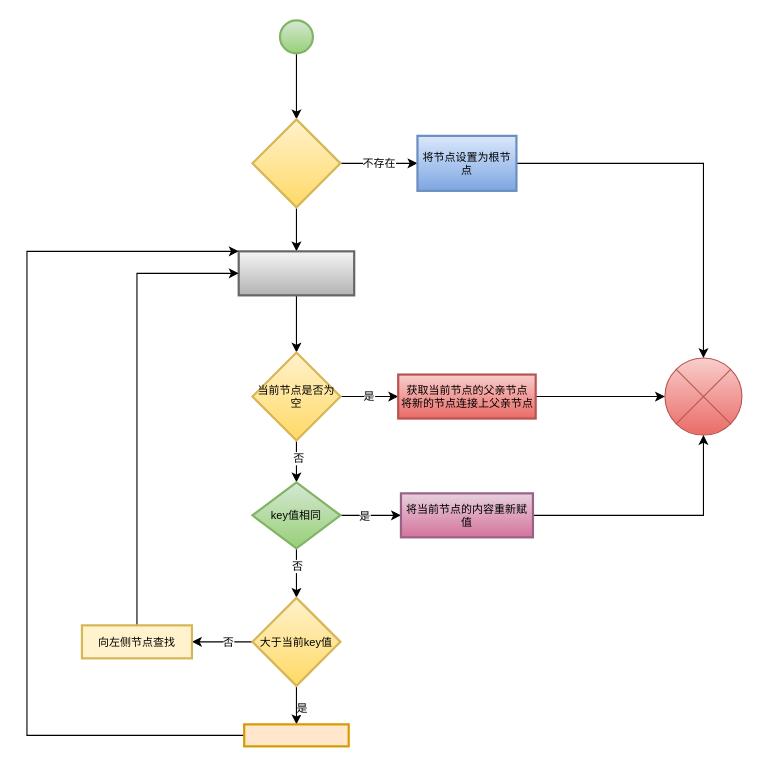
Image size: 761x766. Some labels were removed from this diagram. Each missing label, with the centre of its shape:
"判断根节点是否存在" goes at (x=296, y=163).
"向右侧节点查找" goes at (x=296, y=735).
"设置为当前节点" goes at (x=296, y=273).
